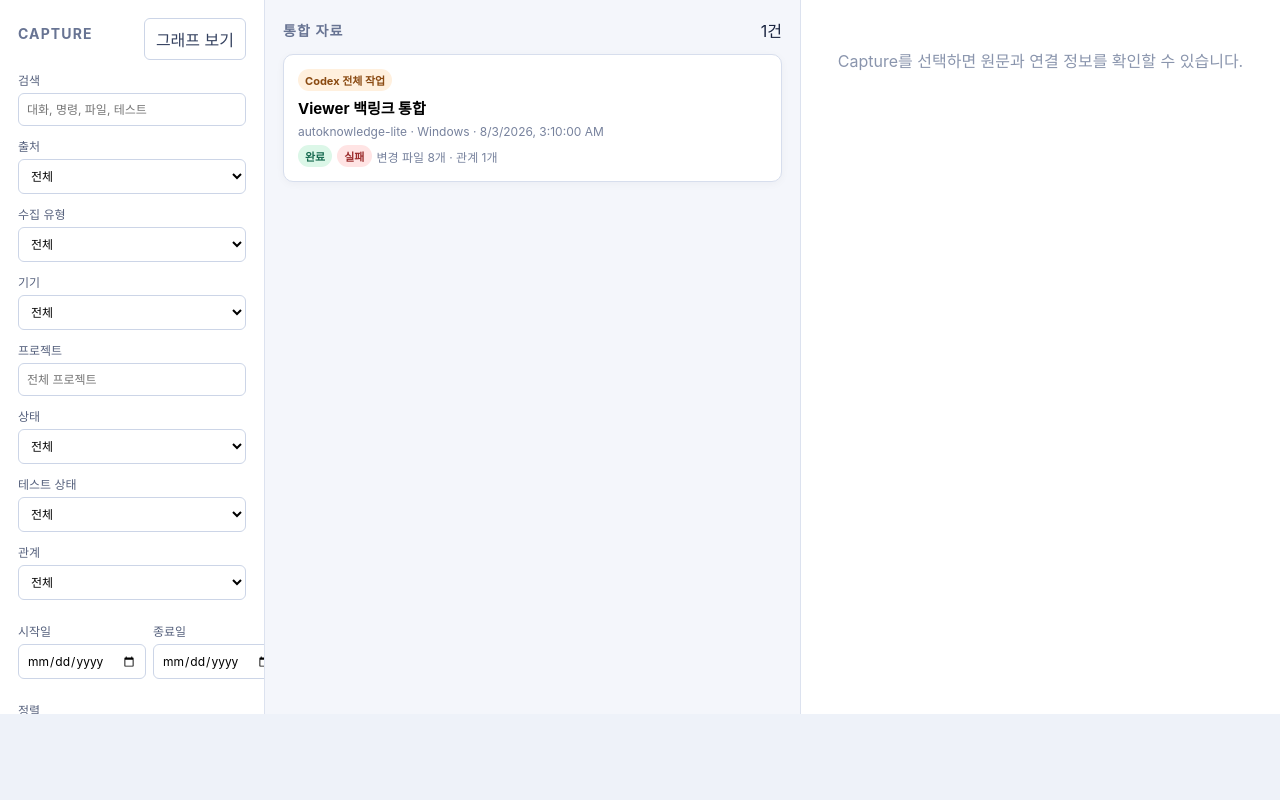
Test: CaptureWorkspace › opens a session and lazy-loads a tab without replacing the overview
This screenshot has width=1280, height=800.
Click the button with aria-label "Codex 전체 작업, Viewer 백링크 통합".
click(345, 80)  # box [283,54,782,182]
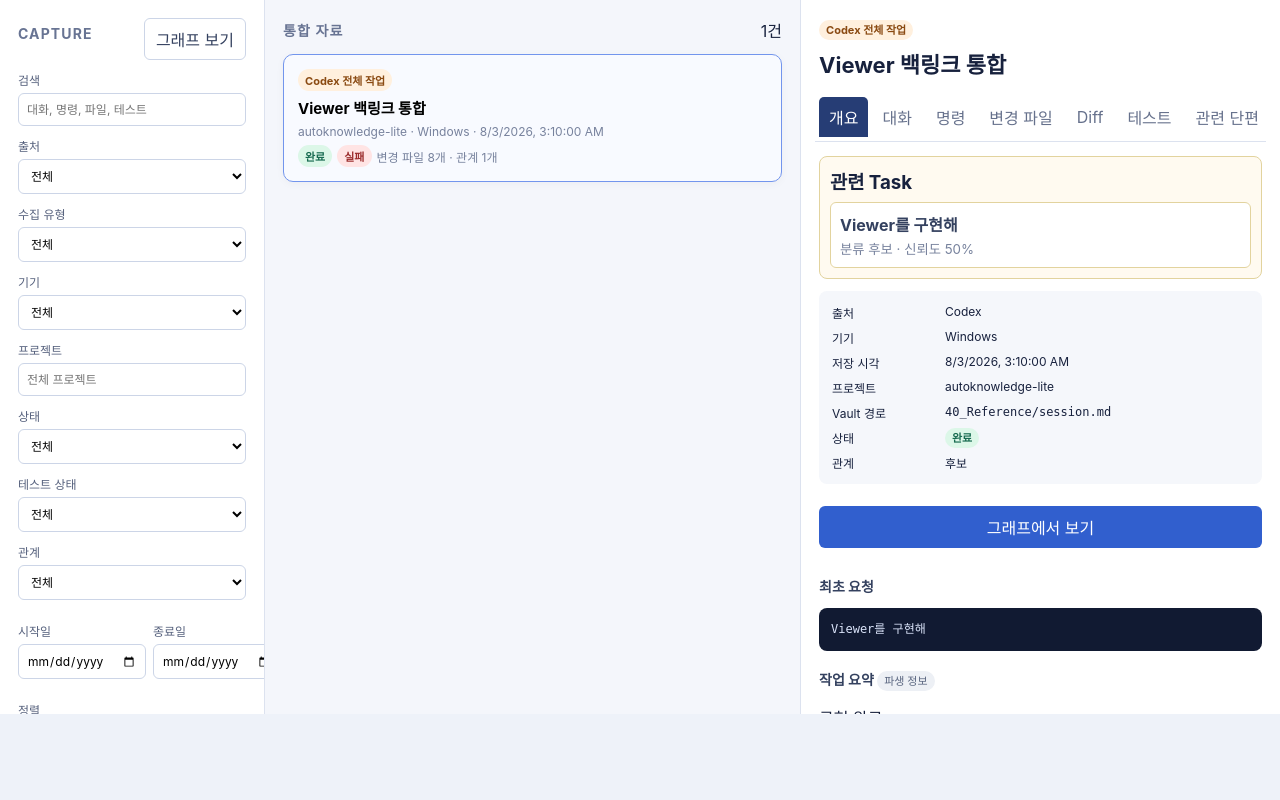
Now the heading "최초 요청" is shown, box [819,578,874,595]
Click the tab "대화".
click(897, 117)  # box [872,97,922,137]
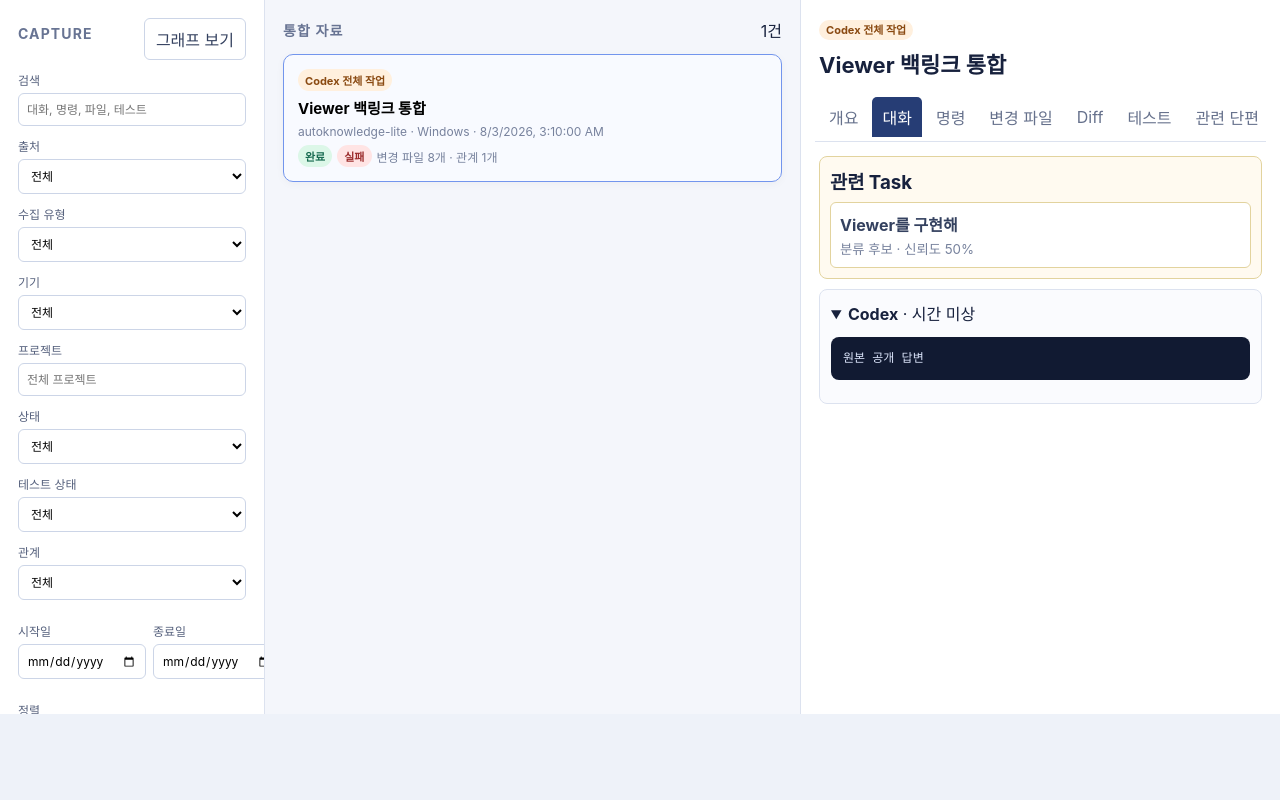
Now the text "원본 공개 답변" is shown, box [831,337,1250,380]
